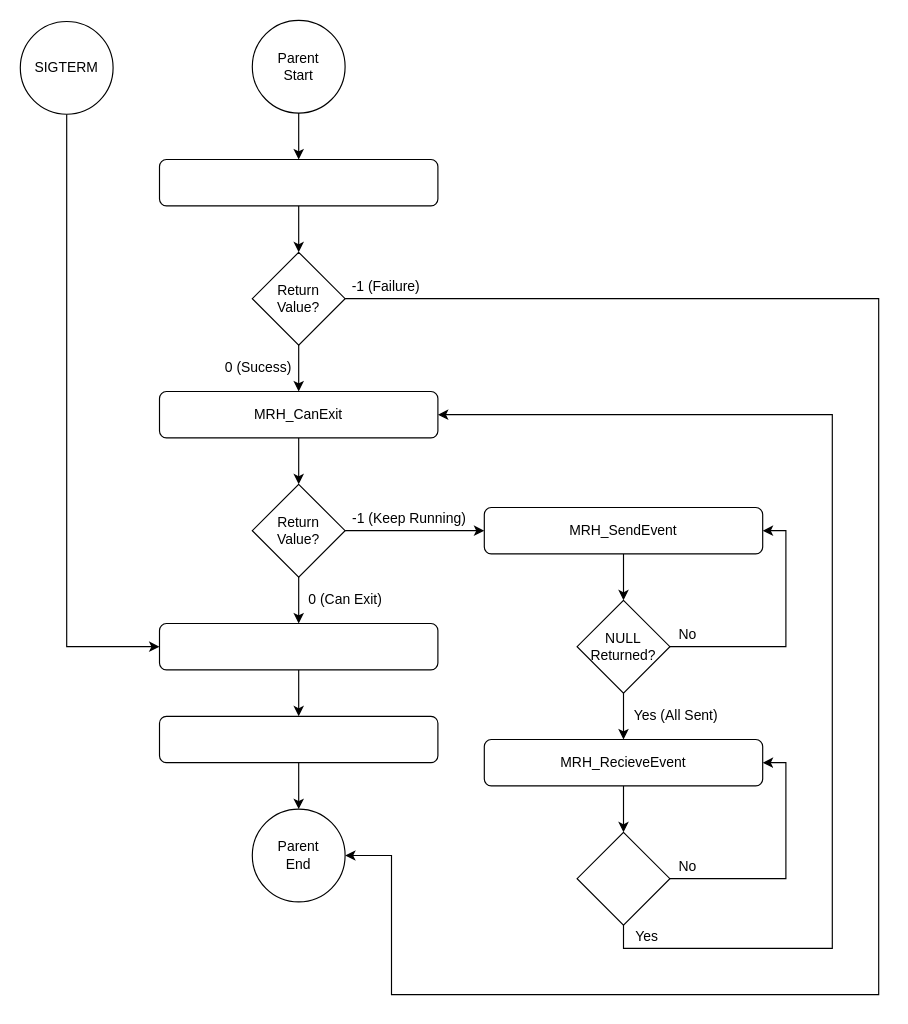
This 908x1024 diagram has some shape labels left out. The box of each missing label's shape, as (x1, y1, x2, y2) in pixels:
All Recieved?: (576, 831, 670, 925)
MRH_Exit: (158, 622, 438, 670)
MRH_Init: (158, 158, 438, 206)
Send remaining events: (158, 715, 438, 763)
